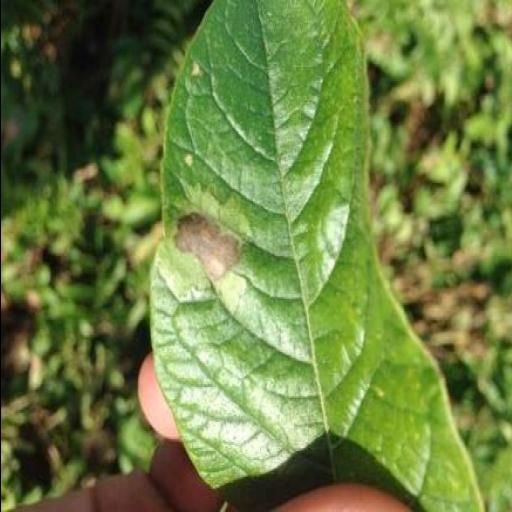disease_tomato: (148, 0, 480, 512)
